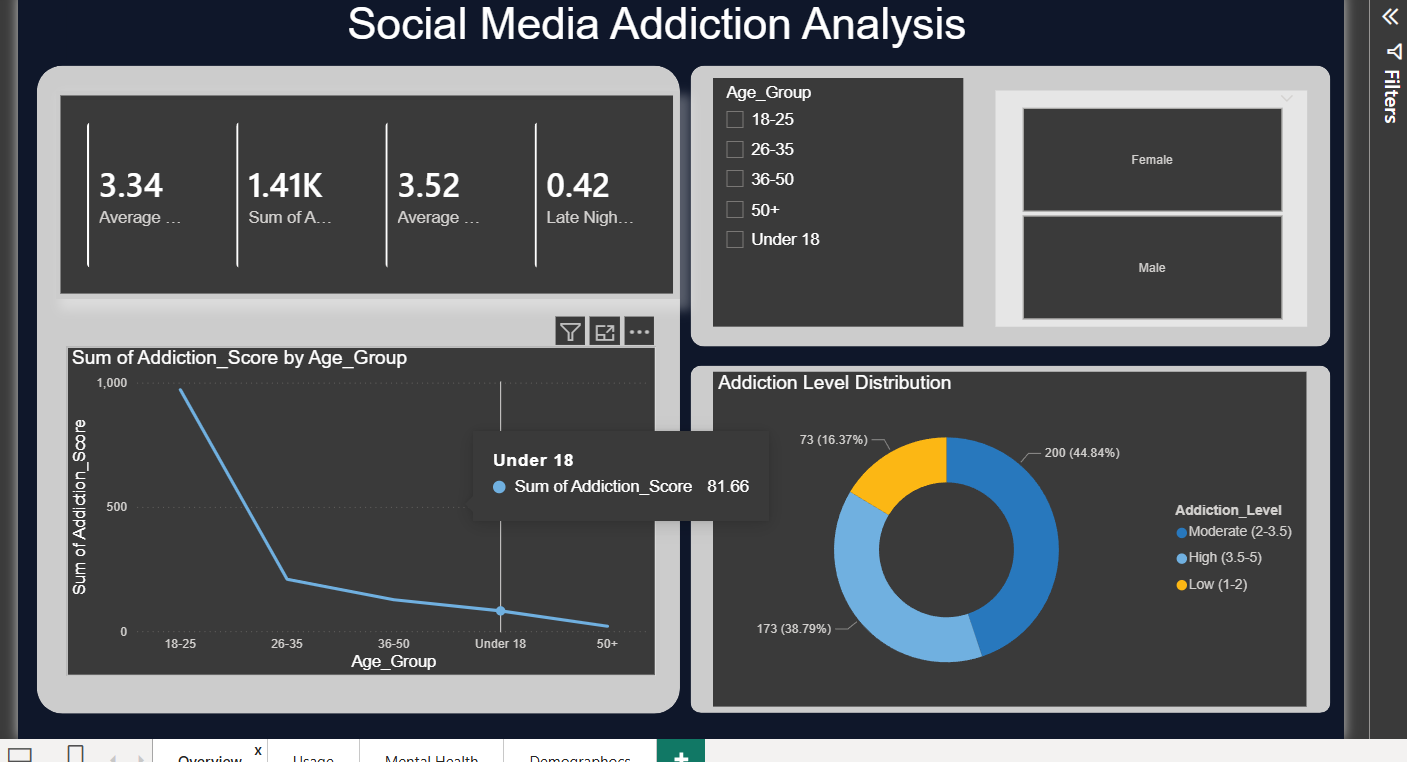

This screenshot's page, from the dashboard's own definition file:
{"tool":"powerbi","page":{"name":"Overview","canvas":[1280,720],"ordinal":0},"visuals":[{"type":"textbox","box":[47.1,12.9,1138.6,70],"z":0},{"type":"shape","box":[18.6,69.8,620.9,625.6],"z":1000},{"type":"shape","box":[648.8,69.8,617.4,320.9],"z":2000},{"type":"shape","box":[648.8,400,617.4,295.3],"z":3000},{"type":"cardVisual","fields":{"Data":["Avg(Survey_Data.Mental_Health_Score)","Sum(Survey_Data.Addiction_Score)","Avg(Survey_Data.Daily_Hours_Num)","Demographics_Summary.Late Night %"]},"box":[30.2,100,576.7,194.2],"z":4000},{"type":"lineChart","fields":{"Category":["Survey_Data.Age_Group"],"Y":["Sum(Survey_Data.Addiction_Score)"]},"box":[48.2,341.3,558.8,317.9],"z":5000},{"type":"donutChart","fields":{"Category":["Survey_Data.Addiction_Level"],"Y":["CountNonNull(Survey_Data.Late_Night_User)"]},"box":[667.5,411.5,567.1,271.1],"z":6000},{"type":"slicer","fields":{"Values":["Survey_Data.Age_Group"]},"box":[657.9,110.1,300,209.2],"z":7000},{"type":"slicer","fields":{"Values":["Survey_Data.Gender"]},"box":[981.3,114.2,271.1,180.3],"z":8000}]}

Visuals, with their boxes on the page's 1280x720 design canvas (x1, y1, x2, y2). These are canvas units, not pixel positions in the 1407x762 screenshot, which may show the page scaled, cropped or inside an application window:
textbox: select_region(47, 13, 1186, 83)
shape: select_region(19, 70, 640, 695)
shape: select_region(649, 70, 1266, 391)
shape: select_region(649, 400, 1266, 695)
cardVisual - Avg(Survey_Data.Mental_Health_Score) x Sum(Survey_Data.Addiction_Score): select_region(30, 100, 607, 294)
lineChart - Survey_Data.Age_Group x Sum(Survey_Data.Addiction_Score): select_region(48, 341, 607, 659)
donutChart - Survey_Data.Addiction_Level x CountNonNull(Survey_Data.Late_Night_User): select_region(668, 412, 1235, 683)
slicer - Survey_Data.Age_Group: select_region(658, 110, 958, 319)
slicer - Survey_Data.Gender: select_region(981, 114, 1252, 294)
